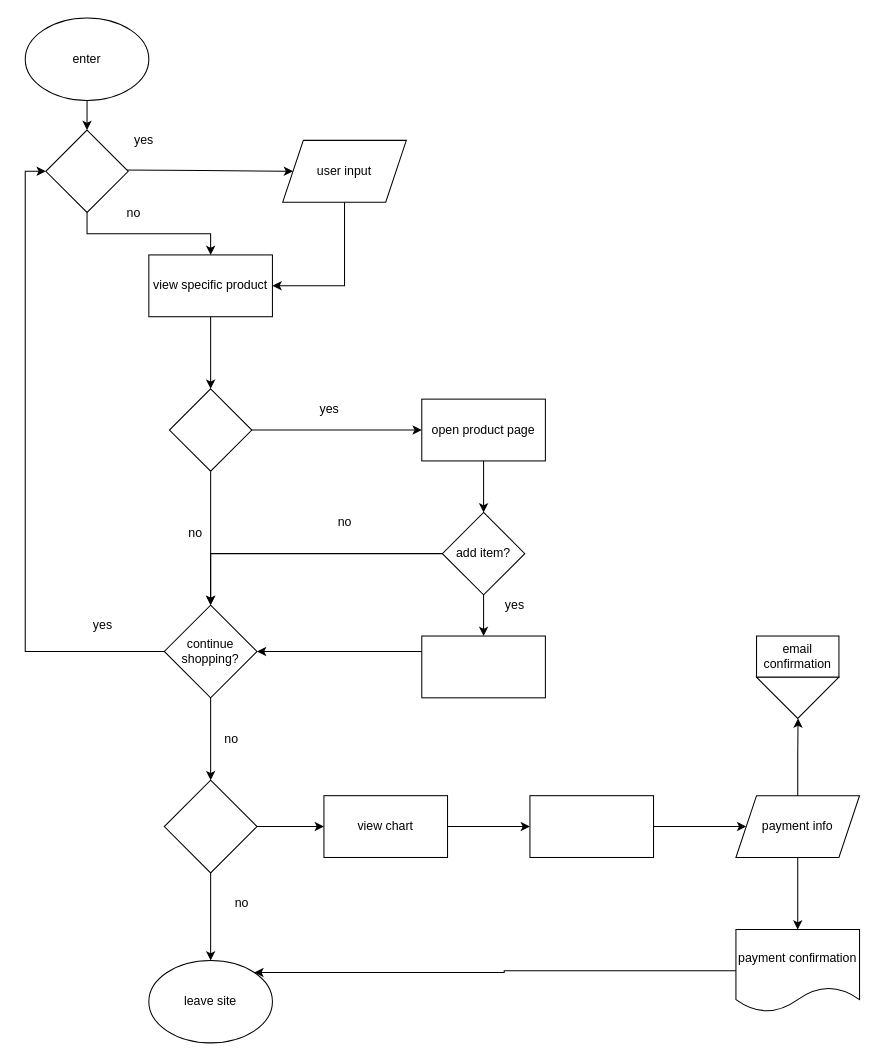
Image size: 878x1061. Some labels were removed from this diagram. Each missing label, with the centre of its shape:
add confirmation: pixel 483 666
checkout?: pixel 210 826
searching?: pixel 86 170
view payment: pixel 591 826
view specific product?: pixel 210 429
